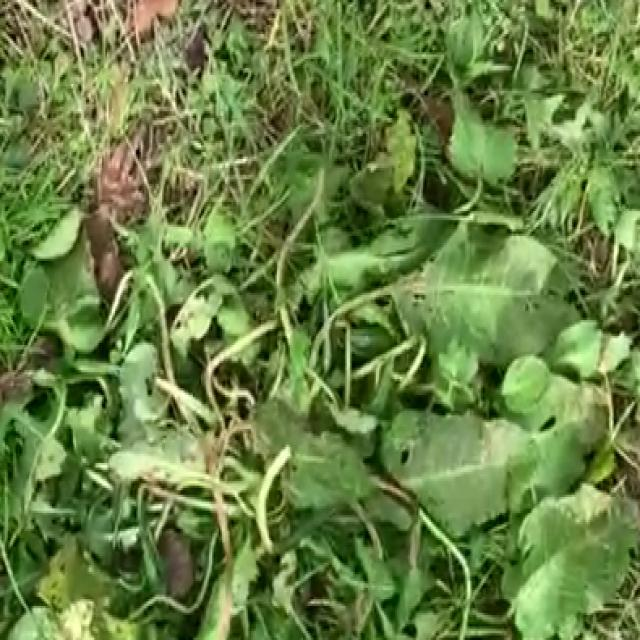organic waste: (0, 147, 633, 640)
